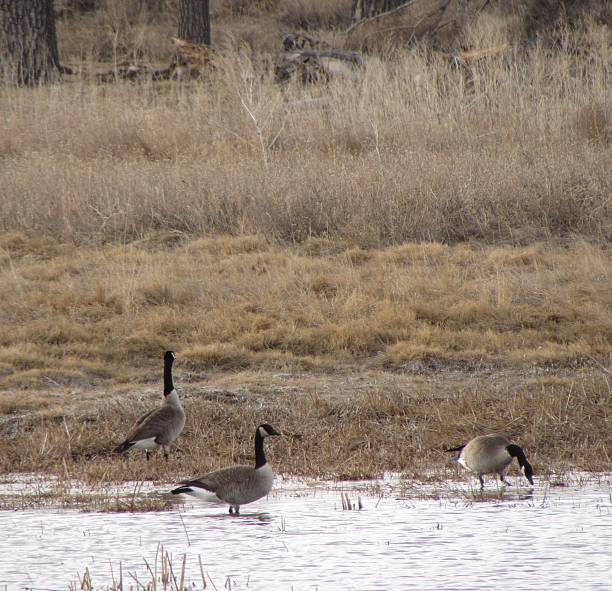goose: (162, 422, 283, 521), (109, 347, 190, 467), (453, 433, 538, 497)
